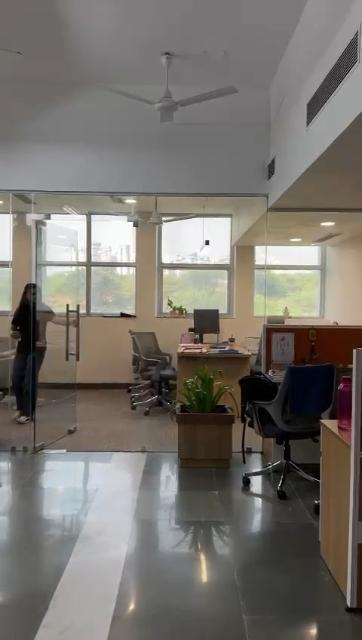floor: (0, 386, 358, 640)
moving-obj: (13, 278, 66, 436)
object: (241, 356, 323, 506), (181, 374, 239, 466), (131, 328, 175, 414), (330, 366, 362, 434), (185, 303, 227, 349)
wall: (80, 316, 132, 390), (235, 203, 258, 347), (332, 238, 362, 322), (136, 232, 162, 328), (13, 218, 31, 280)
